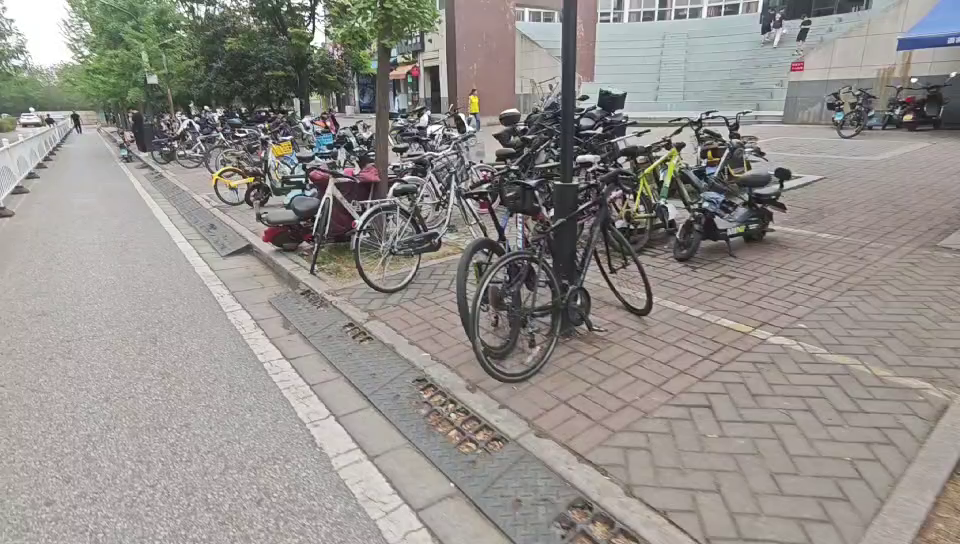others: (489, 172, 666, 383), (361, 134, 473, 290), (355, 161, 475, 290), (683, 151, 793, 259), (610, 122, 695, 244), (286, 153, 367, 277)
shared_bike_haluo: (280, 125, 337, 166)
shared_bike_meituan: (207, 135, 299, 206)
